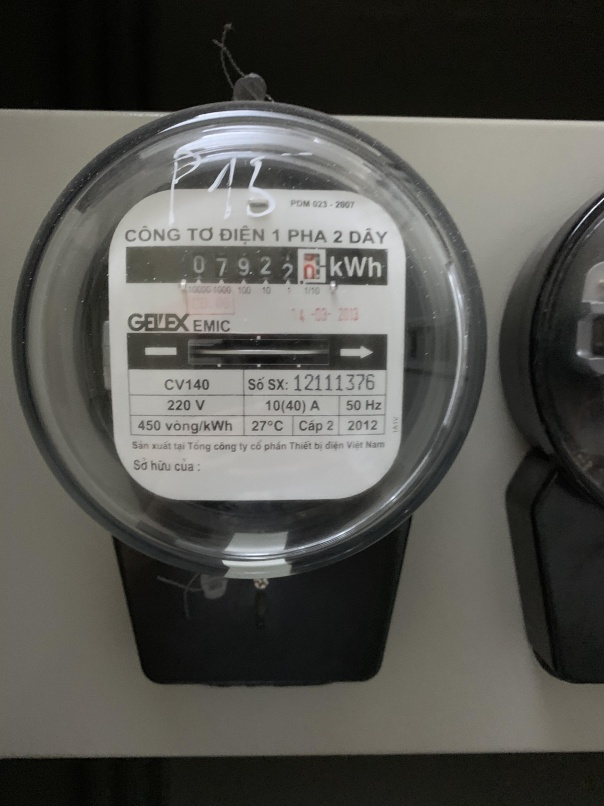counter: (124, 245, 389, 287)
electricity_meter: (16, 100, 491, 578)
